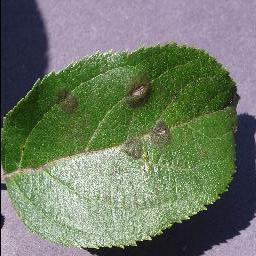apple healthy: (0, 40, 241, 252)
